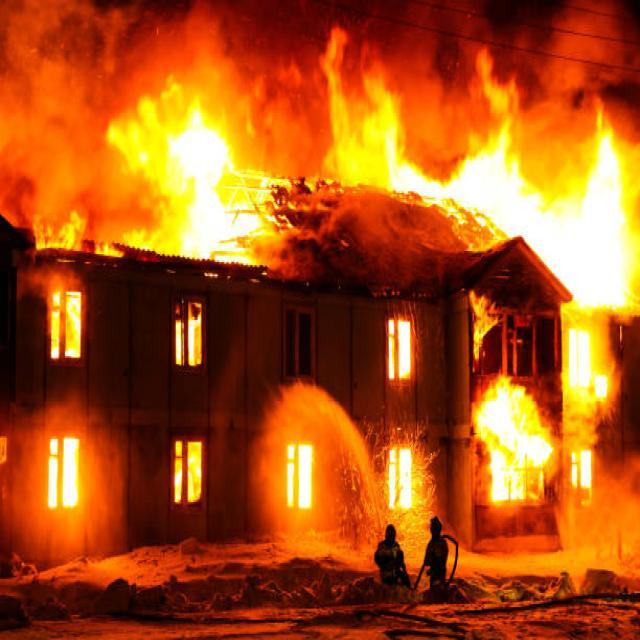Fire: (380, 104, 640, 307), (550, 300, 623, 462), (158, 108, 229, 255), (474, 385, 548, 499), (168, 290, 205, 374), (48, 280, 80, 360)
Smoke: (0, 1, 640, 224)
